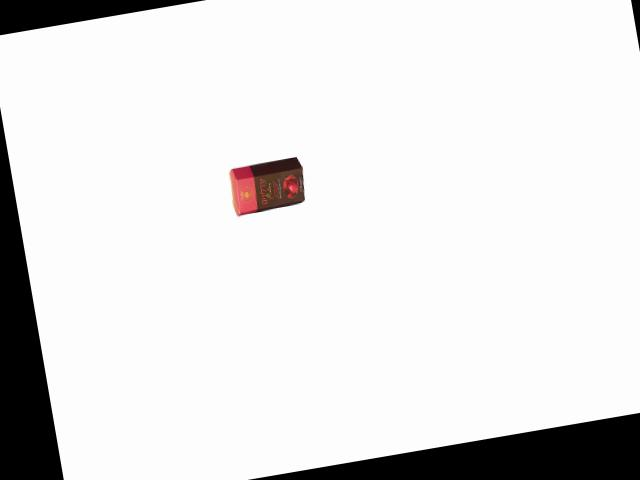chocolate: (224, 153, 315, 217)
